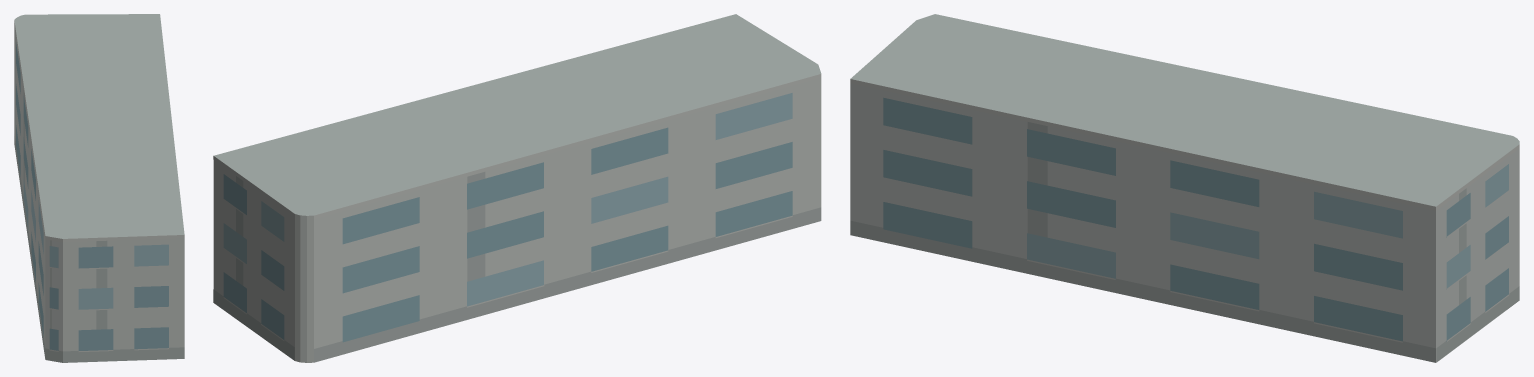
Rendered from survey-upis-32885588.glb.
3 renders of one model, left to right at view 1: azimuth 30°, elevation 25°; view 2: azimuth 150°, elevation 25°; view 3: azimuth 270°, elevation 25°, orthographic. The views are drawn at different scales.
Parts seen in each view (by area): view 1: survey-upis-32885588.tmp; view 2: survey-upis-32885588.tmp; view 3: survey-upis-32885588.tmp.
Boxes of the visible parts, x1,y1,x2,y2 form: survey-upis-32885588.tmp: [14, 14, 184, 362]; survey-upis-32885588.tmp: [213, 14, 821, 362]; survey-upis-32885588.tmp: [850, 14, 1519, 362].
Size of the model in its own units: 24.22 by 9.15 by 35.55.
